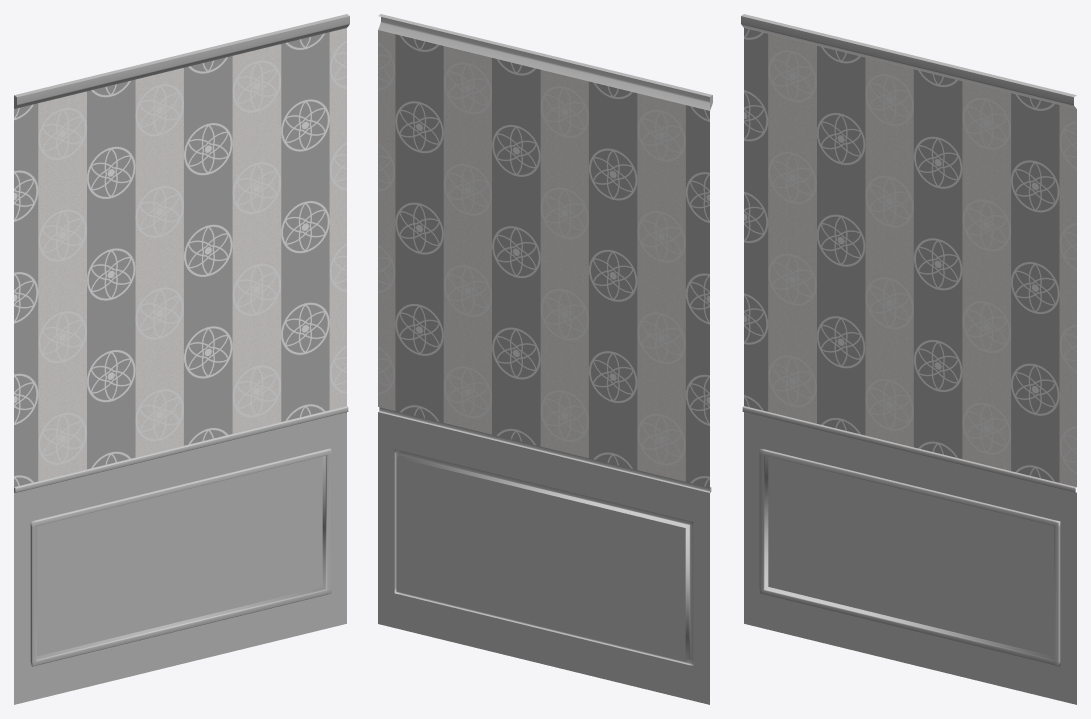
File: WallNiche03_200cm.FBX
3 renders of one model, left to right at view 1: azimuth 30°, elevation 25°; view 2: azimuth 150°, elevation 25°; view 3: azimuth 330°, elevation 25°, orthographic.
Visible parts, largest first — view 1: WallNiche03_200cm; view 2: WallNiche03_200cm; view 3: WallNiche03_200cm.
Boxes of the visible parts, bbox=[...] form: WallNiche03_200cm: bbox=[14, 14, 349, 704]; WallNiche03_200cm: bbox=[378, 14, 712, 704]; WallNiche03_200cm: bbox=[741, 14, 1076, 704].
Bounding box in the file's own units: 2000 × 3500 × 60.
